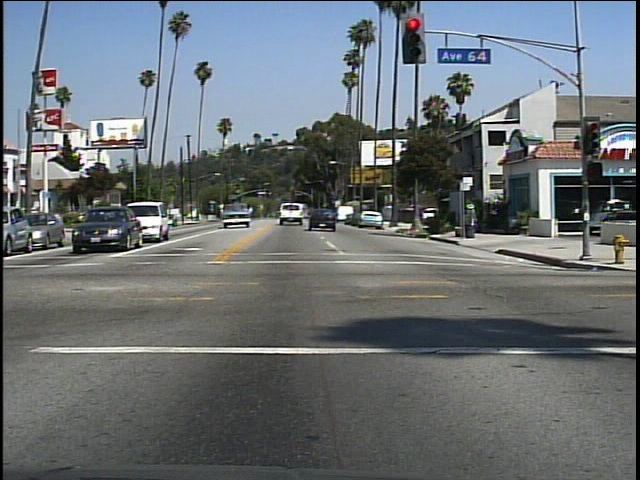person: (464, 199, 485, 241)
